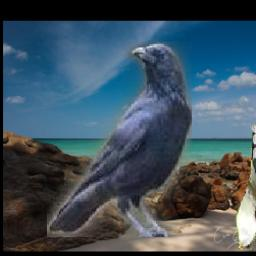Crow: (47, 42, 192, 238)
Cuckoo: (236, 125, 256, 251)
